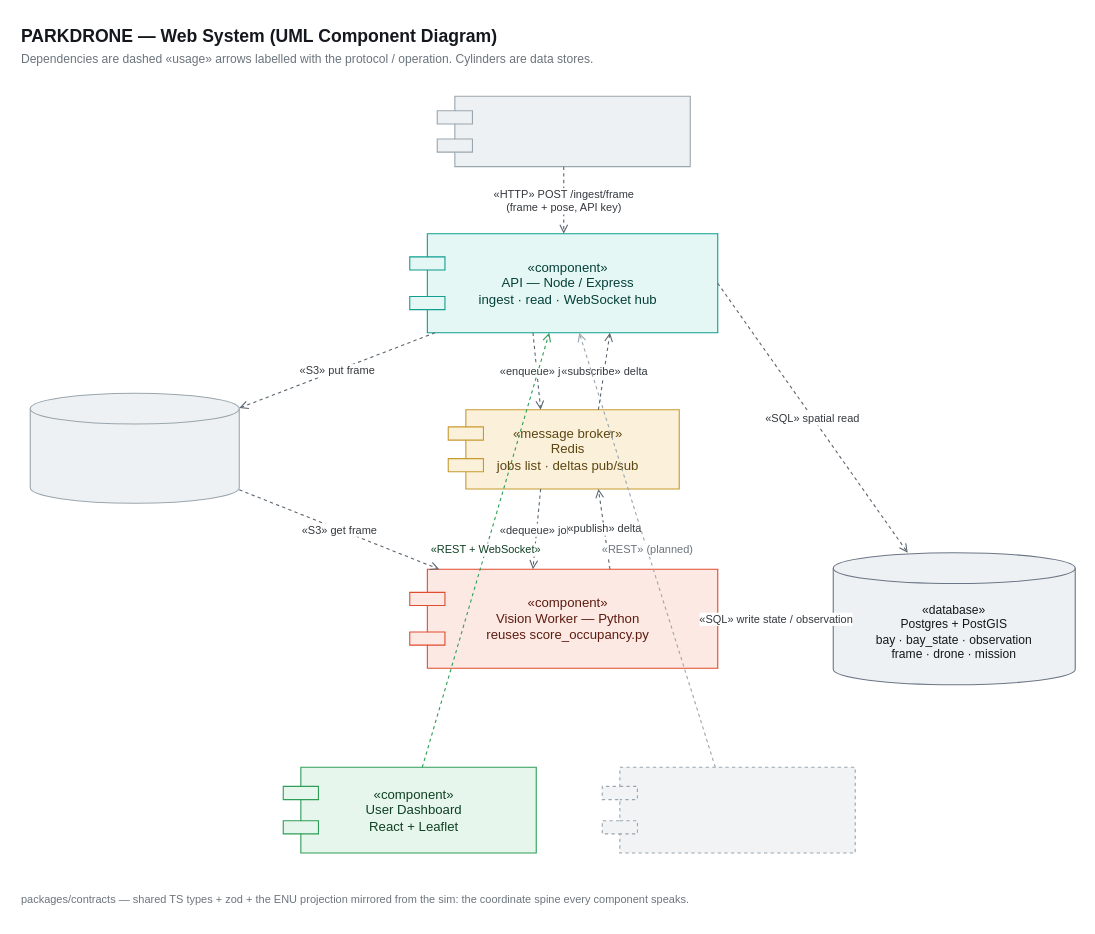
The diagram is 1095 pixels wide and 934 high, and some of its shapes have lost their labels. Each missing label, with the centre of its shape:
"«component» Admin Dashboard (planned)" belongs at (x=728, y=809).
"«component» Drone / Webots Sim nadir frames + poses" belongs at (x=563, y=131).
"«datastore» Object store MinIO / S3 — raw frames" belongs at (x=134, y=447).
